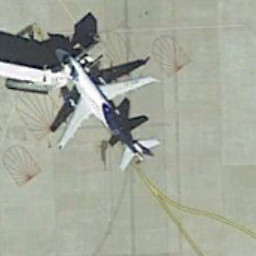Airplane: (32, 32, 172, 187)
